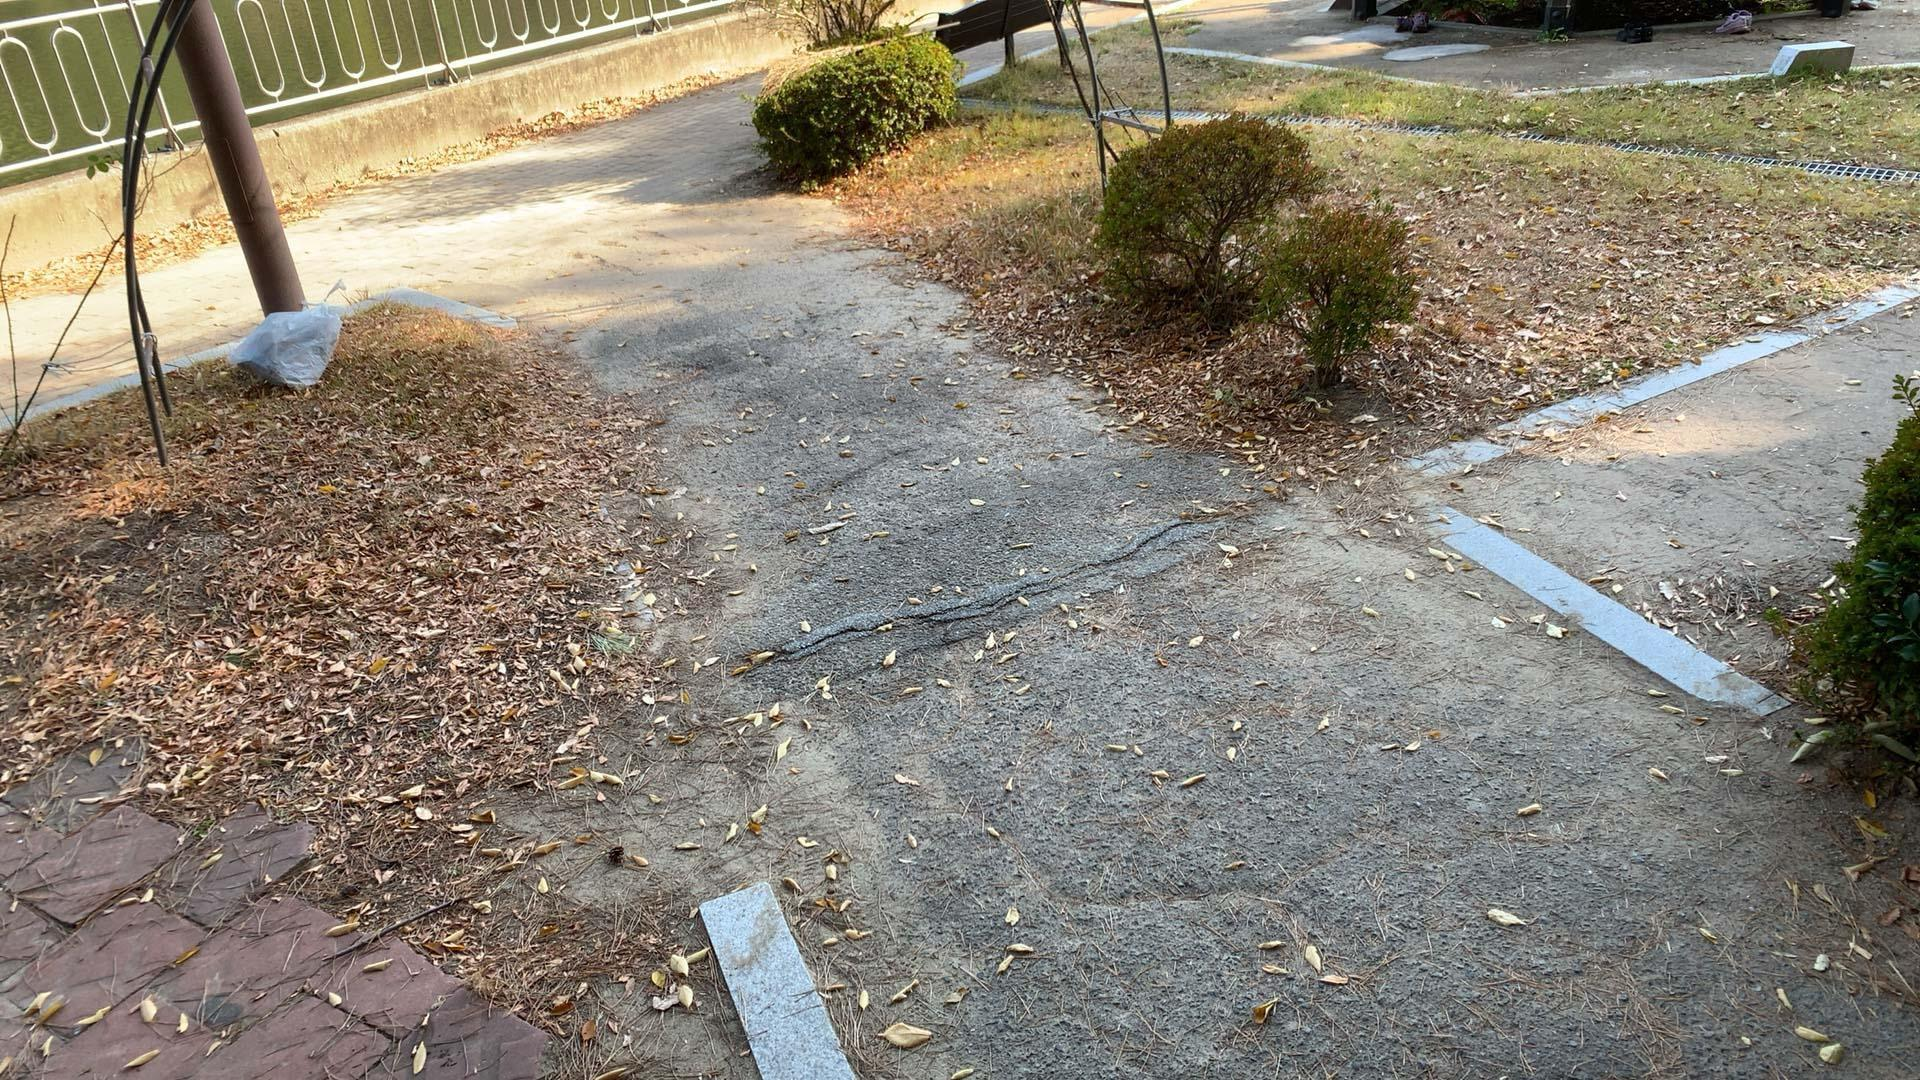white_bag: (218, 281, 354, 397)
